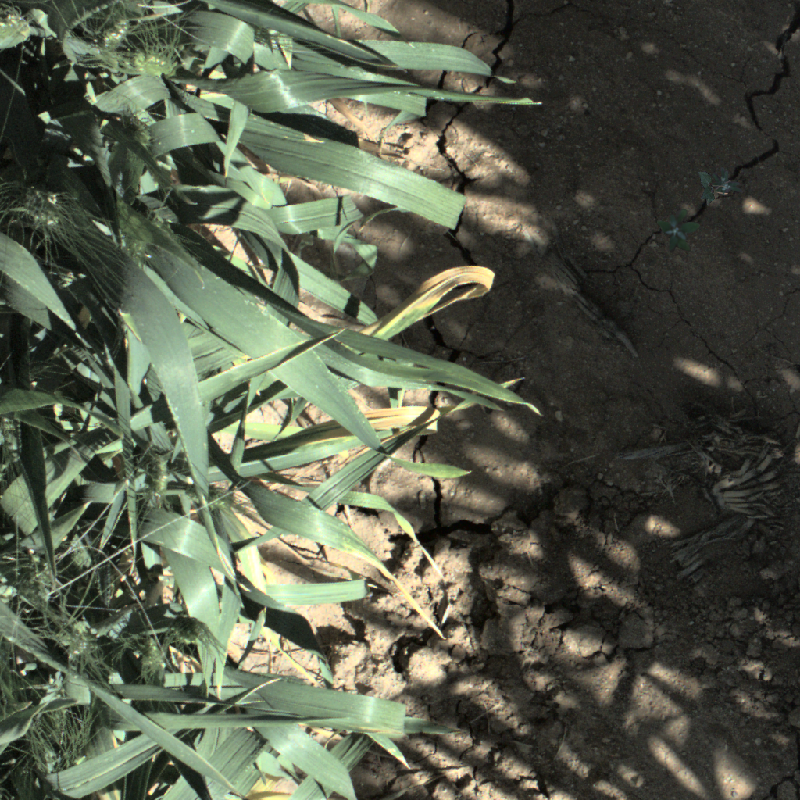spikelet: (19, 185, 65, 241), (78, 1, 131, 47), (614, 610, 670, 651), (130, 40, 181, 78), (56, 619, 99, 660), (1, 7, 33, 52)
weed: (1, 78, 109, 196), (657, 209, 700, 253), (712, 167, 742, 195), (696, 169, 717, 206)
